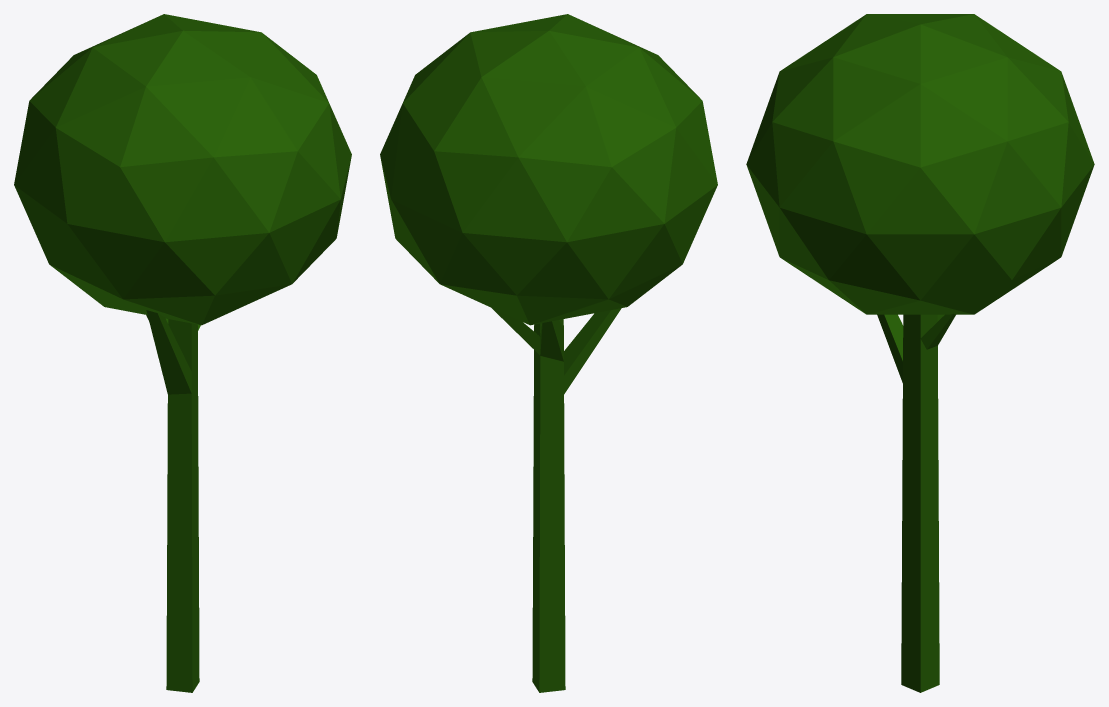
File: Tree_2.obj
3 views of the same model, side by side, from view 1: azimuth 30°, elevation 25°; view 2: azimuth 150°, elevation 25°; view 3: azimuth 270°, elevation 25° (orthographic).
Visible parts, largest first — view 1: tree_2__Cylinder.002; view 2: tree_2__Cylinder.002; view 3: tree_2__Cylinder.002.
Part boxes in pixels (x1,y1,x2,y2): tree_2__Cylinder.002: [14, 14, 351, 692]; tree_2__Cylinder.002: [380, 14, 717, 692]; tree_2__Cylinder.002: [746, 14, 1094, 692].
Bounding box in the file's own units: 3 × 6.59 × 3.15.
Materials: 1 (1 with a texture image).
